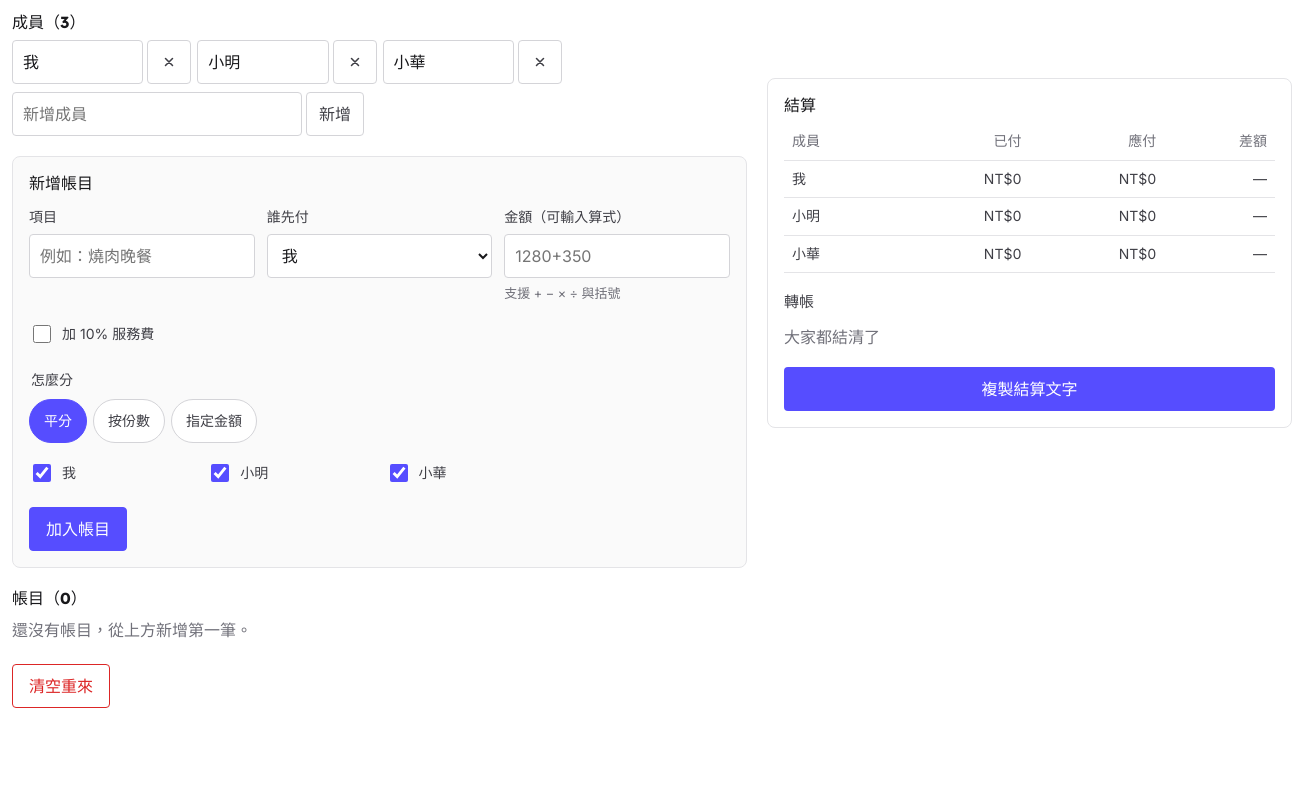
Test: SplitBillApp › disables saving until exact amounts add up (AC-03, EC-03)
Type "機票" into the field with id "expense-title".
click(142, 256); type("機票")  # box left=29, top=234, right=255, bottom=278
Type "1000" into the field with id "expense-amount".
click(617, 256); type("1000")  # box left=504, top=234, right=730, bottom=278
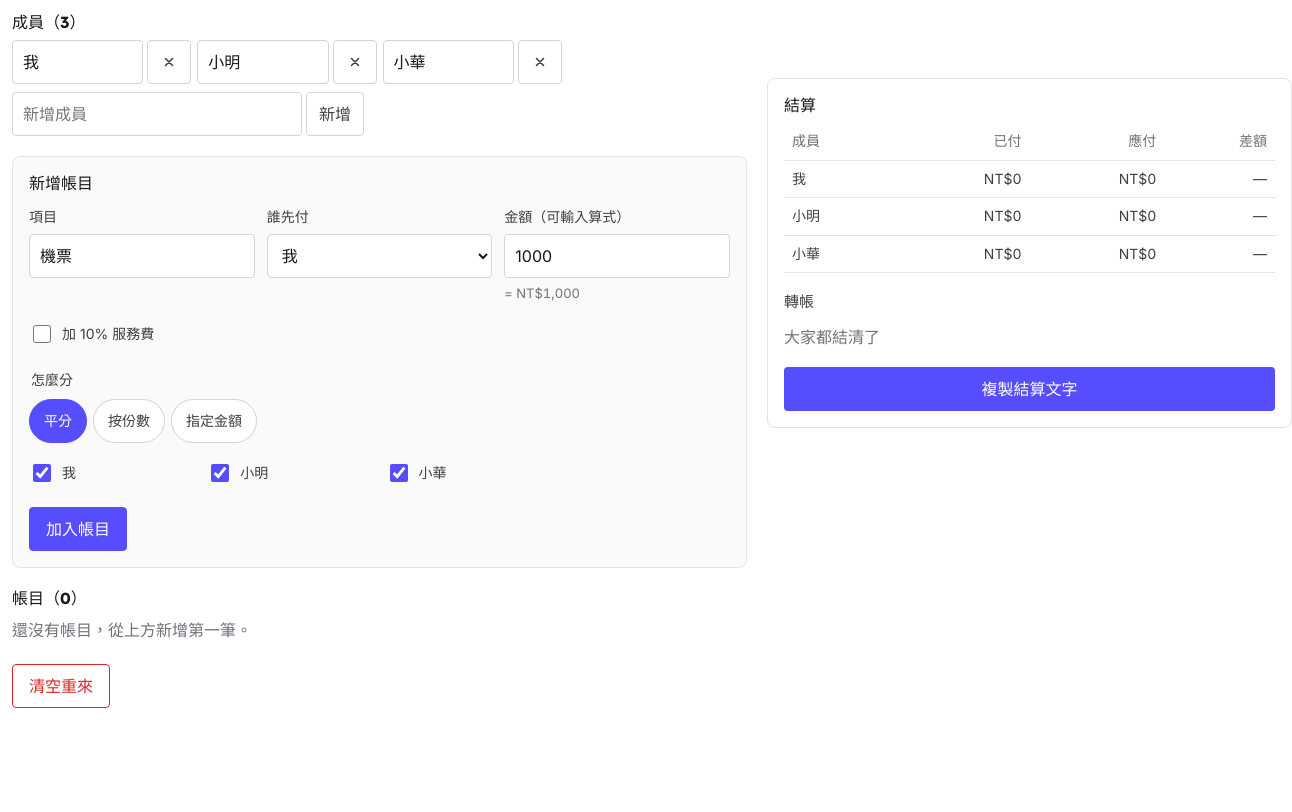
Click the radio button named "split-mode".
click(214, 421)  # box left=171, top=399, right=257, bottom=443
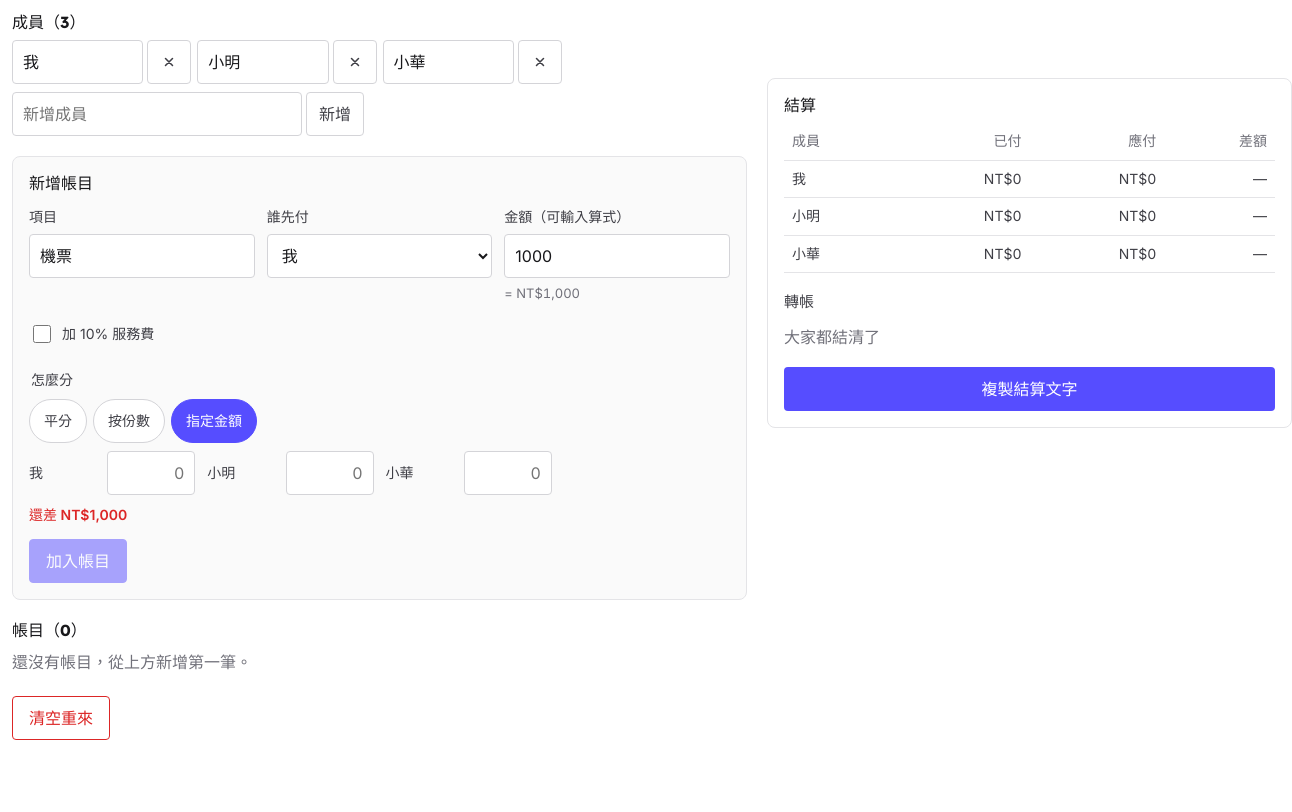
Type "400" into the field with id "exact-m-me".
click(151, 473); type("400")  # box left=107, top=451, right=195, bottom=495
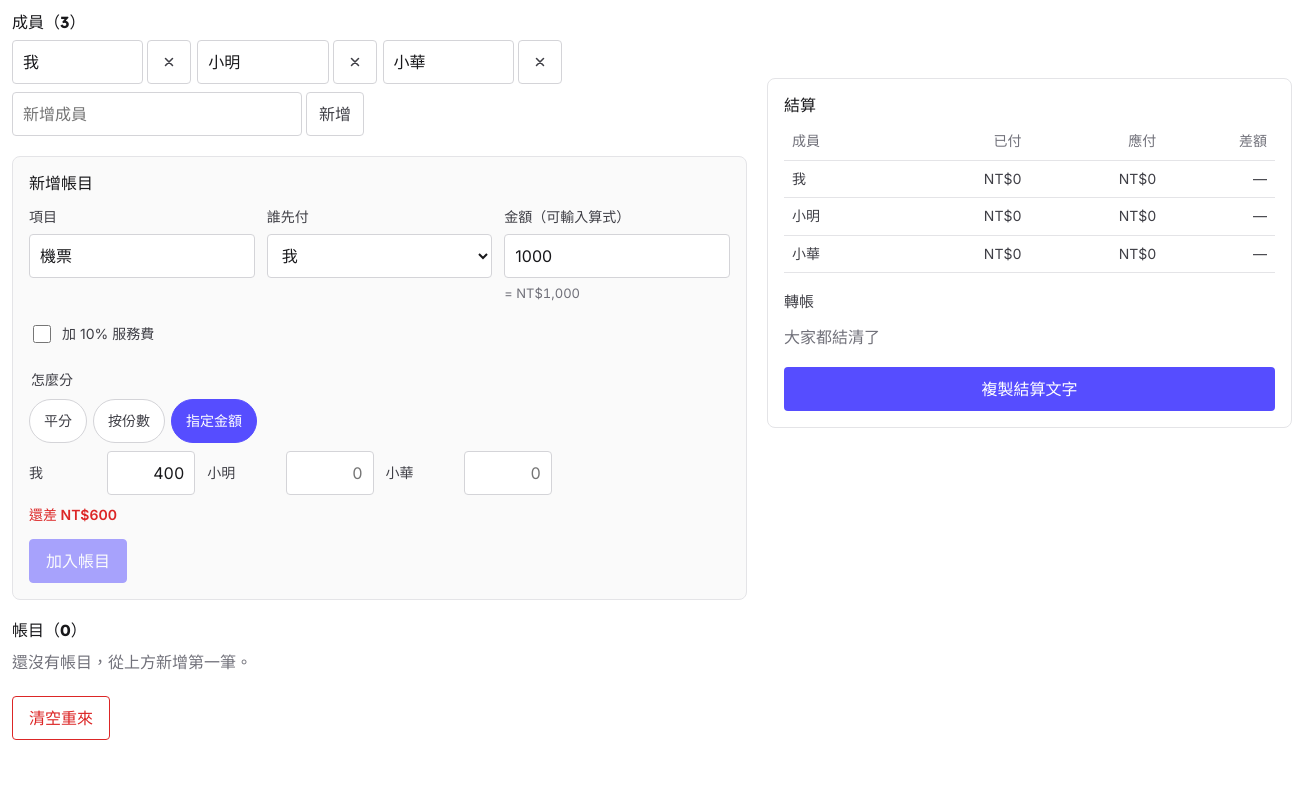
Type "500" into the field with id "exact-m-ming".
click(330, 473); type("500")  # box left=286, top=451, right=374, bottom=495
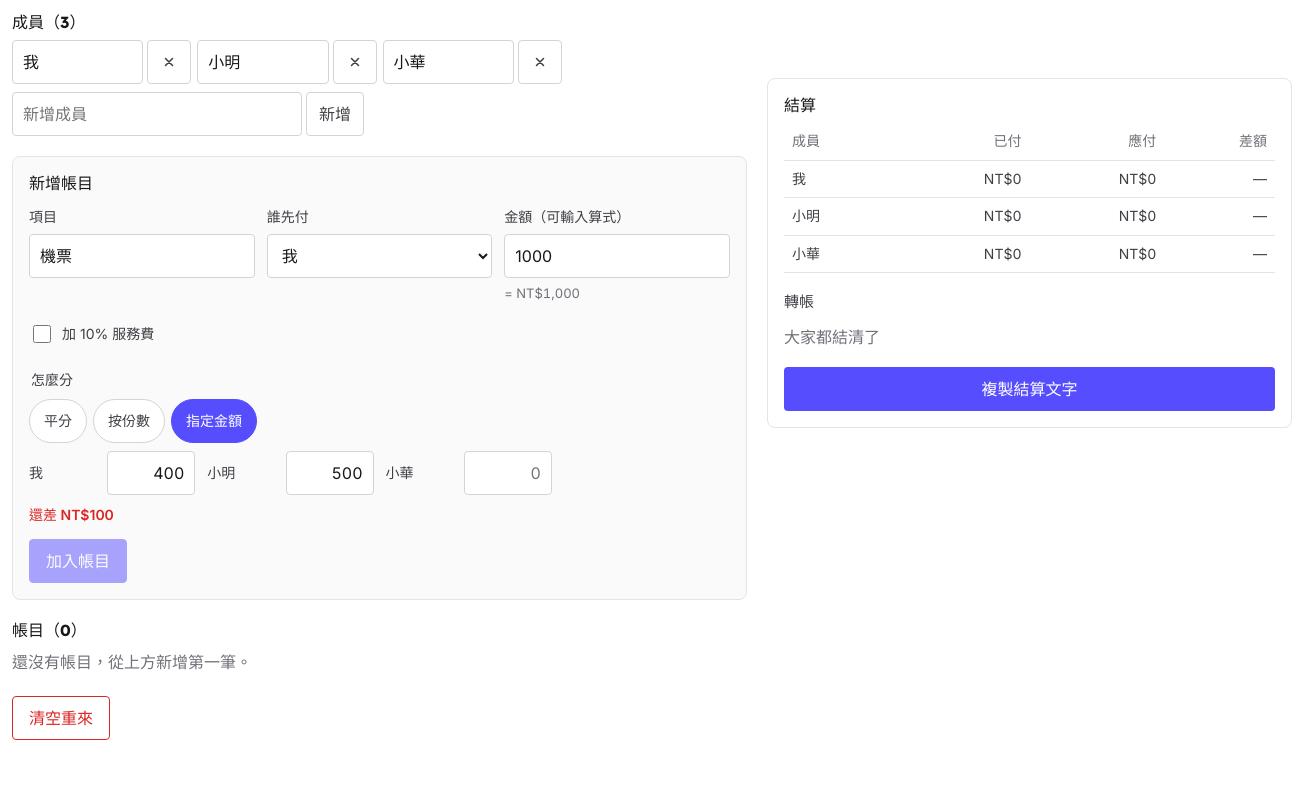
Result: the button "加入帳目" is disabled at left=29, top=539, right=127, bottom=583
Result: the message with class "remaining" reads "還差 NT$100" at left=29, top=506, right=114, bottom=523
Type "100" into the field with id "exact-m-hua".
click(508, 473); type("100")  # box left=464, top=451, right=552, bottom=495
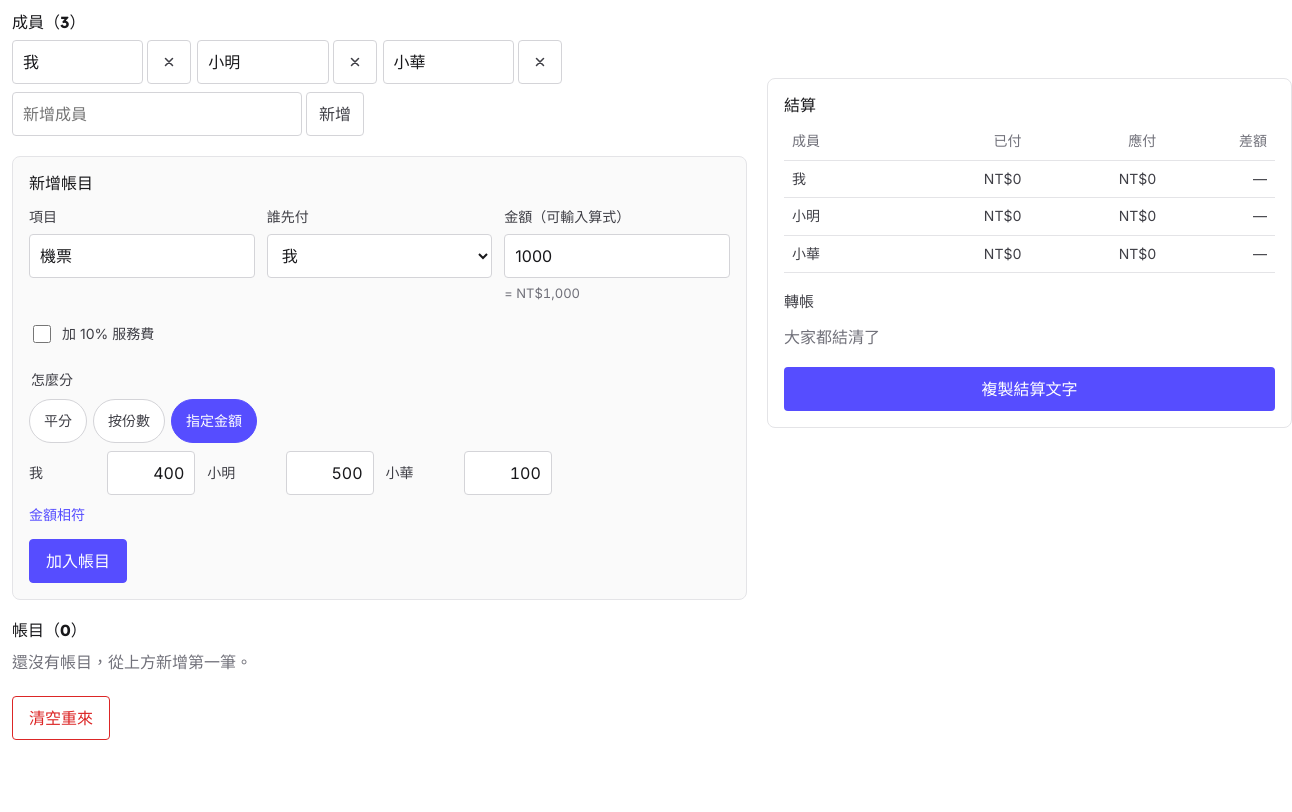
Result: the message with class "remaining" reads "金額相符" at left=29, top=506, right=85, bottom=523
Submit the form with class "expense-form", box left=12, top=156, right=747, bottom=600
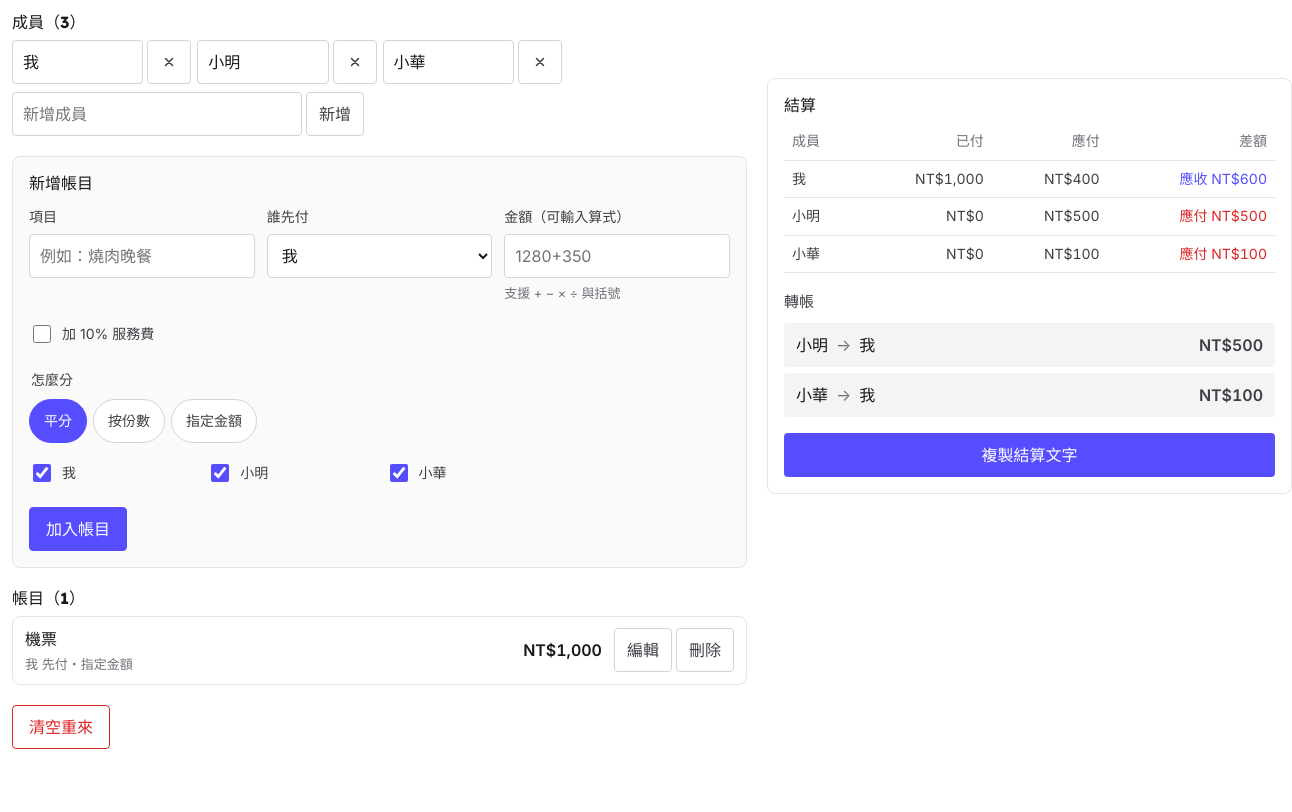
Result: the element with class "expenses" shows "指定金額" at left=25, top=656, right=133, bottom=672
